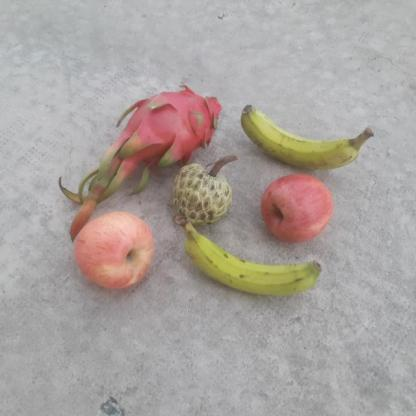annona: (171, 159, 232, 226)
apple: (76, 213, 152, 287), (258, 177, 334, 240)
banana: (184, 230, 322, 298), (238, 100, 371, 169)
pitaya: (121, 90, 208, 163)
